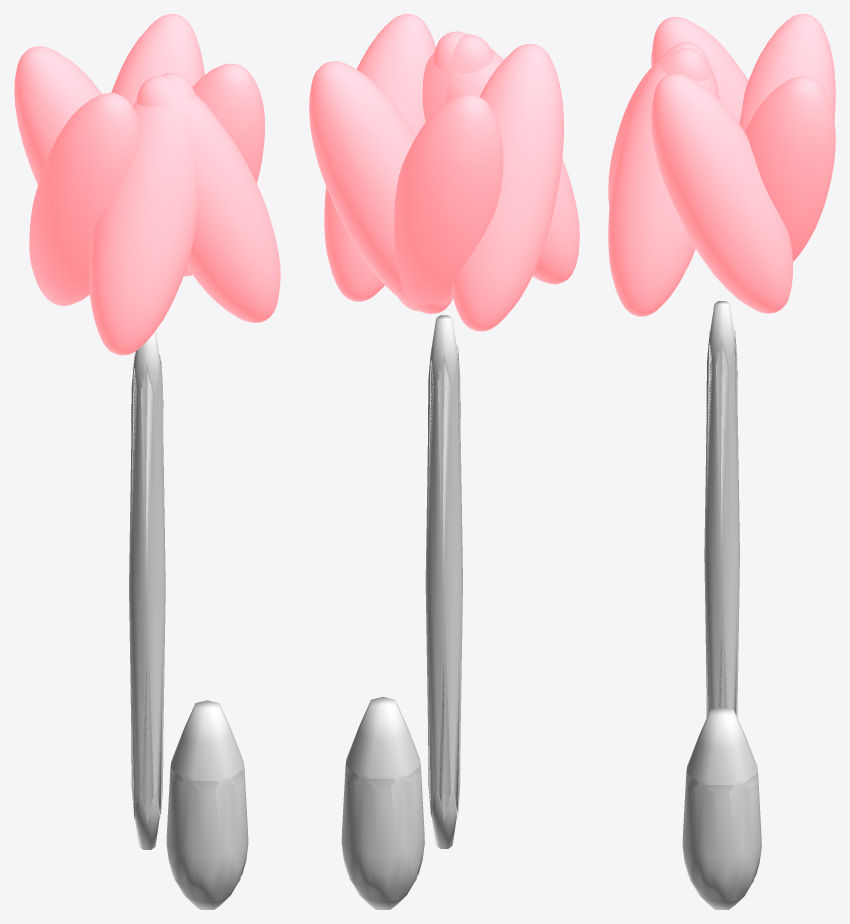
Rendered from plant_flower_tulip_v3.glb.
3 renders of one model, left to right at view 1: azimuth 30°, elevation 25°; view 2: azimuth 150°, elevation 25°; view 3: azimuth 270°, elevation 25°, orthographic. The views are drawn at different scales.
Visible parts, largest first — view 1: pt_4.001, st.001, pt_5.001, pt_3.001, lf, pt_2.001, pt_0.001, pt_1.001; view 2: pt_3.001, st.001, pt_2.001, pt_1.001, lf, pt_0.001, pt_4.001, pt_5.001; view 3: pt_0.001, st.001, lf, pt_5.001, pt_1.001, pt_2.001, pt_3.001, pt_4.001.
Boxes of the visible parts, <box> form: pt_4.001: <box>89,73,196,355</box>; st.001: <box>129,331,165,849</box>; pt_5.001: <box>136,75,280,322</box>; pt_3.001: <box>29,92,141,305</box>; lf: <box>166,700,248,909</box>; pt_2.001: <box>14,46,101,184</box>; pt_0.001: <box>183,63,264,276</box>; pt_1.001: <box>111,14,204,106</box>; pt_3.001: <box>451,44,563,331</box>; st.001: <box>425,315,462,848</box>; pt_2.001: <box>394,94,503,311</box>; pt_1.001: <box>309,61,452,313</box>; lf: <box>341,696,424,909</box>; pt_0.001: <box>324,14,435,301</box>; pt_4.001: <box>433,31,579,284</box>; pt_5.001: <box>422,34,493,121</box>; pt_0.001: <box>651,73,792,313</box>; st.001: <box>704,301,739,717</box>; lf: <box>682,707,761,909</box>; pt_5.001: <box>608,42,718,316</box>; pt_1.001: <box>744,76,835,261</box>; pt_2.001: <box>739,14,835,131</box>; pt_3.001: <box>651,16,748,123</box>; pt_4.001: <box>608,48,719,207</box>.
Size of the model in its own units: 0.1739 by 0.6811 by 0.1692.
